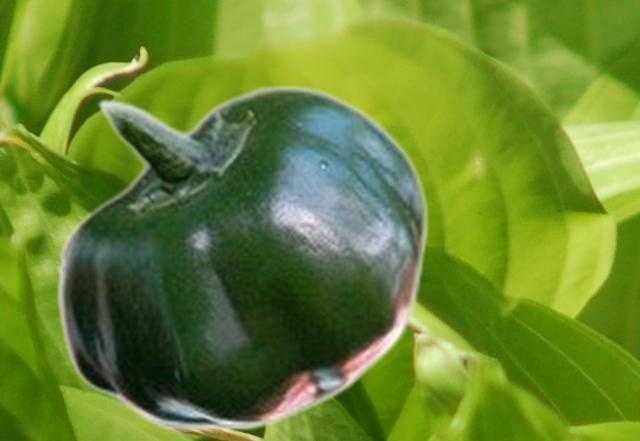bell_pepper: (54, 84, 428, 430)
